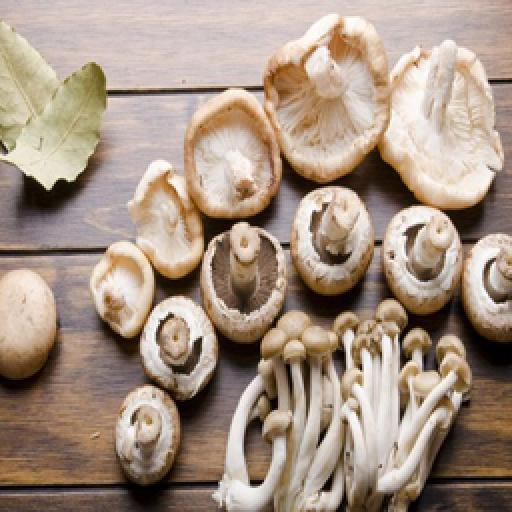mushrooms: (220, 301, 470, 509), (263, 14, 390, 180), (380, 39, 506, 206), (180, 91, 280, 219), (190, 220, 290, 340), (120, 155, 204, 279), (288, 185, 374, 298), (378, 204, 464, 317), (138, 294, 218, 400), (108, 386, 183, 488), (455, 222, 512, 344), (82, 243, 152, 332)
